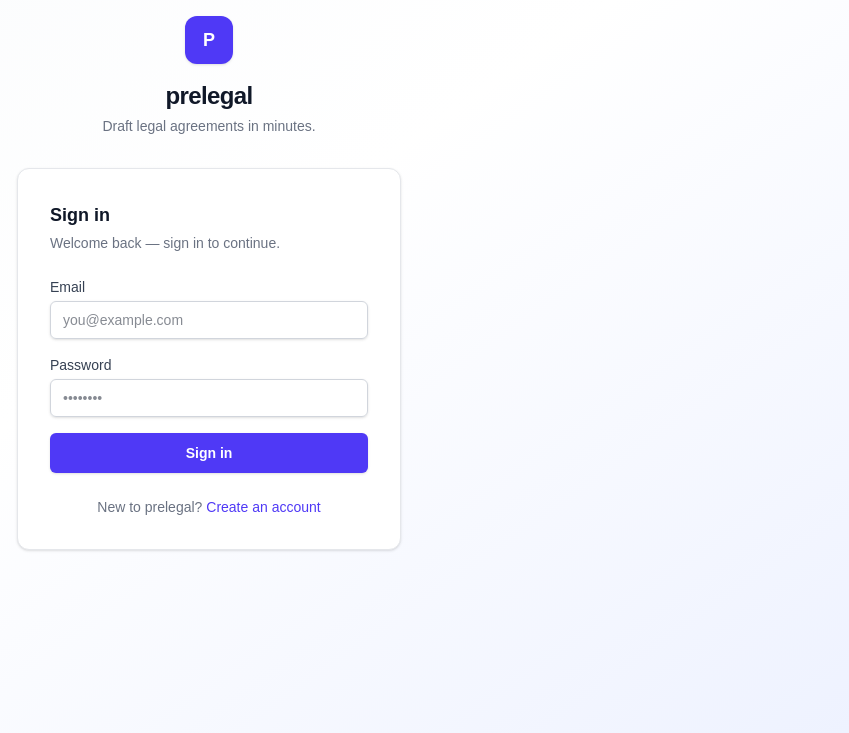
Test case: AuthScreen › switches to sign up mode when the toggle link is clicked
Click the button "Create an account". click: [264, 507]
box: [206, 497, 321, 517]
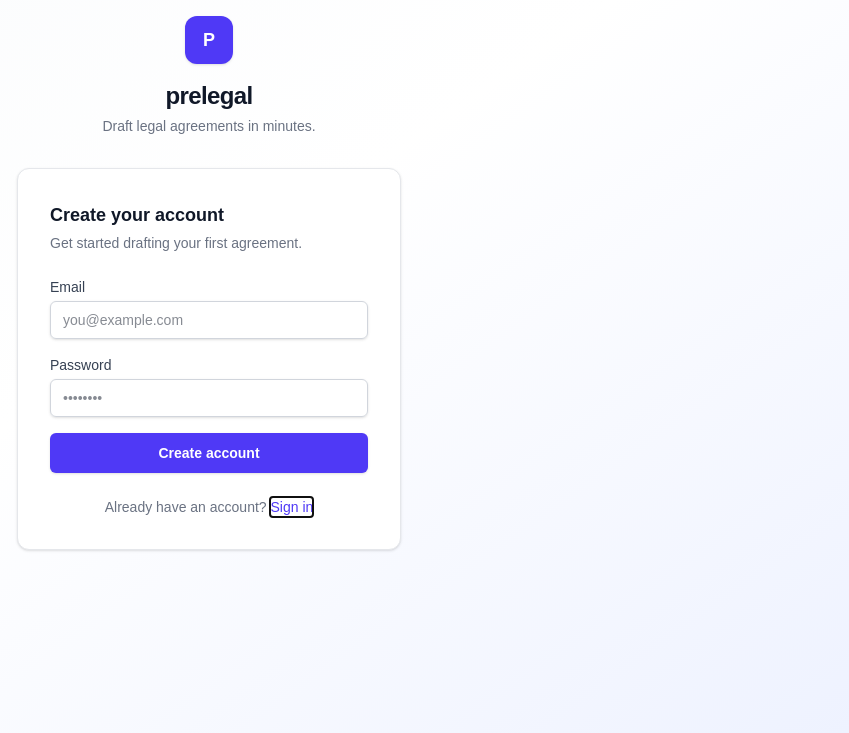
Check: the button "Create account" is shown, box [50, 433, 368, 473]
